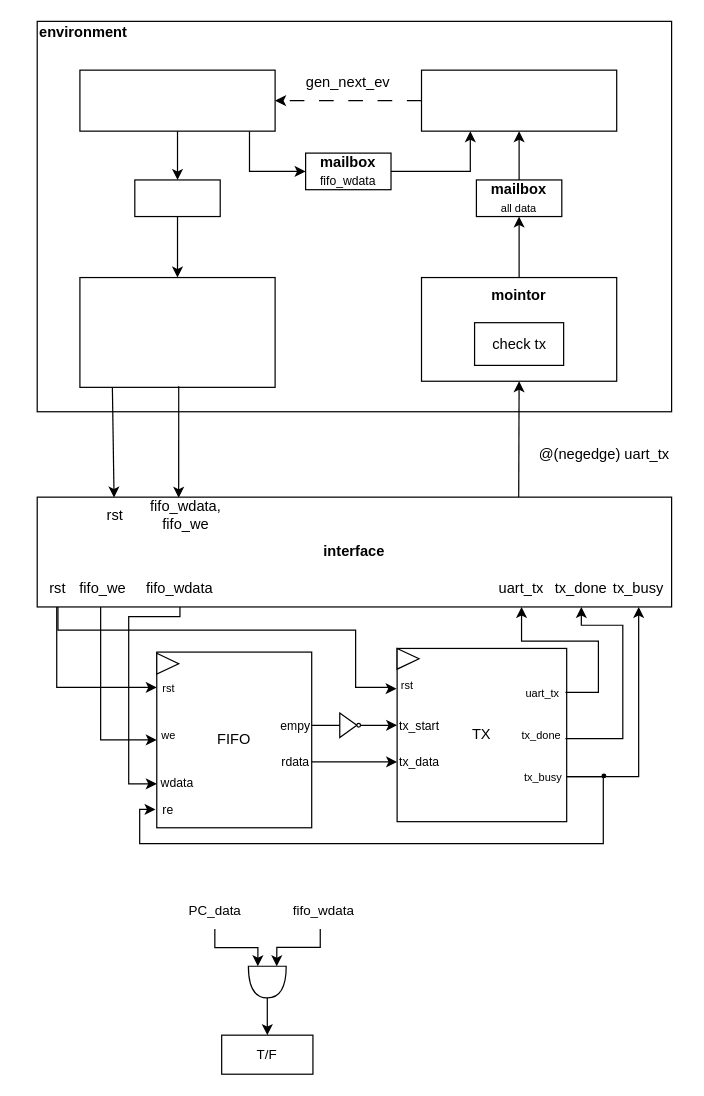
The diagram is 704 pixels wide and 1096 high, and some of its shapes have lost their labels. Here are the shapes that lost their labels. From the top down, the centre of each, then its label:
At point (177, 100): "generator rand bit [7:0] rx_data".
At point (518, 100): "scoreboard".
At point (177, 198): "mailbox tx_data".
At point (177, 331): "driver".
